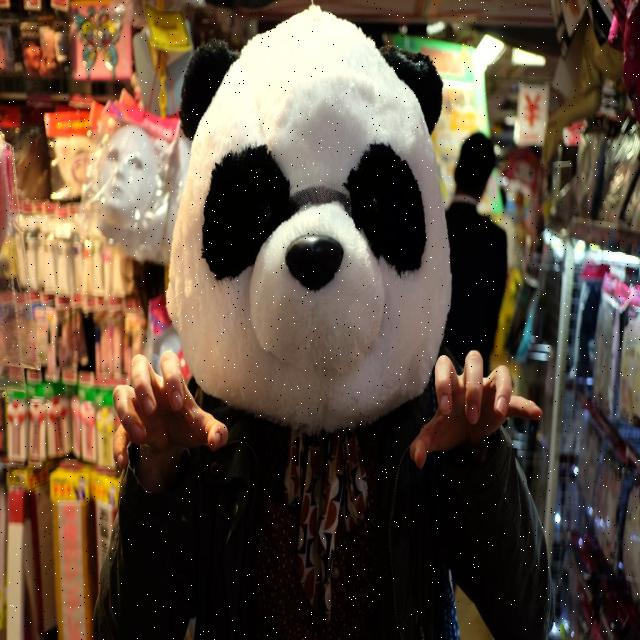panda: (163, 0, 454, 433)
